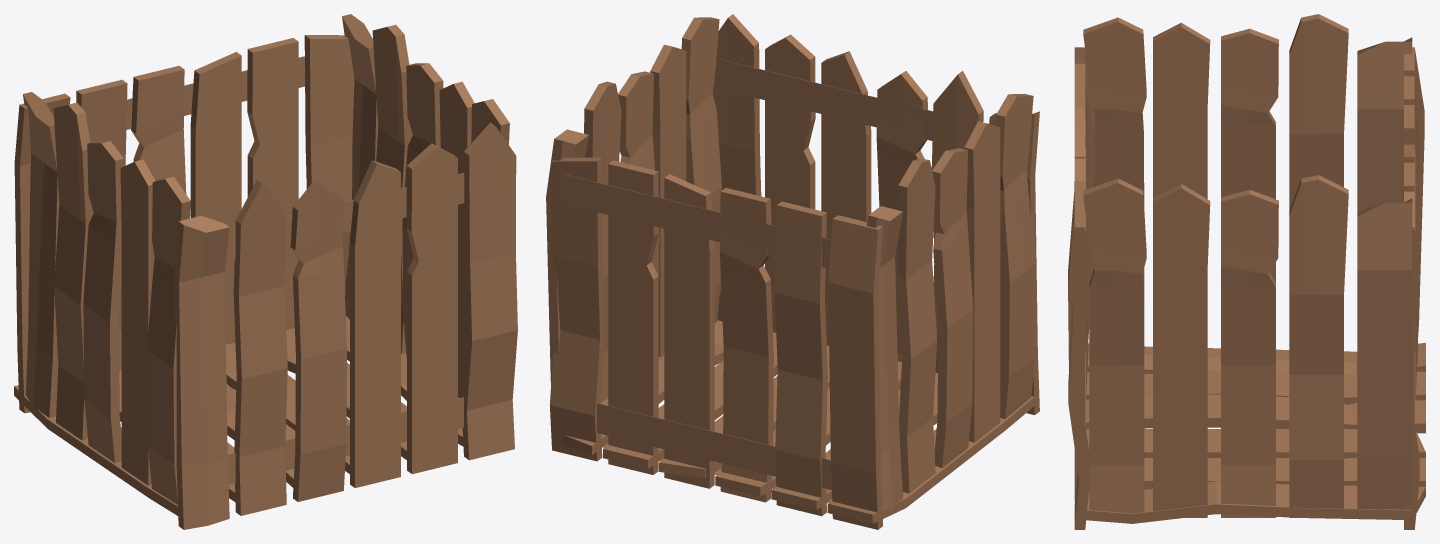
The model's file is SM_rough_crate.fbx.
3 views of the same model, side by side, from view 1: azimuth 30°, elevation 25°; view 2: azimuth 150°, elevation 25°; view 3: azimuth 270°, elevation 25° (orthographic). The views are drawn at different scales.
Parts seen in each view (by area): view 1: rough_crate; view 2: rough_crate; view 3: rough_crate.
Part boxes in pixels (<box>): rough_crate: <box>14,14,517,529</box>; rough_crate: <box>546,14,1039,529</box>; rough_crate: <box>1068,14,1425,529</box>.
Size of the model in its own units: 87.34 by 82.62 by 76.57.
